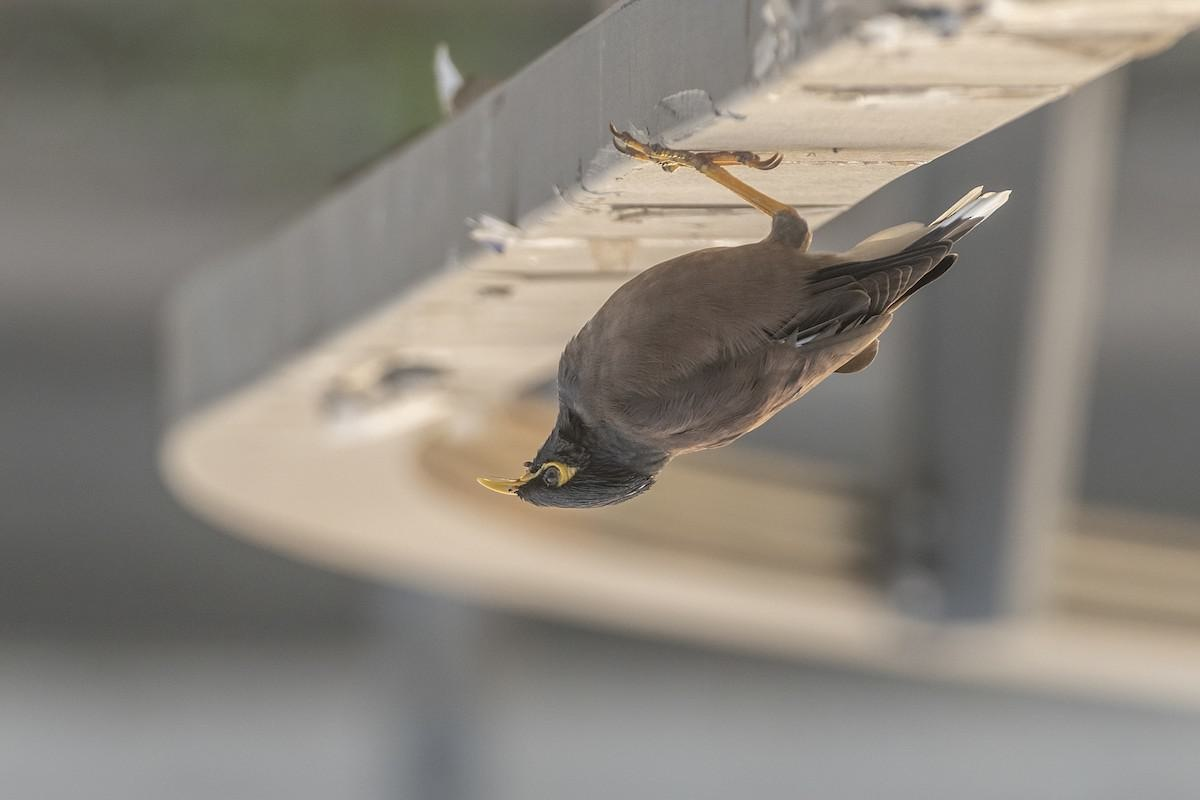myna: (433, 142, 998, 541)
